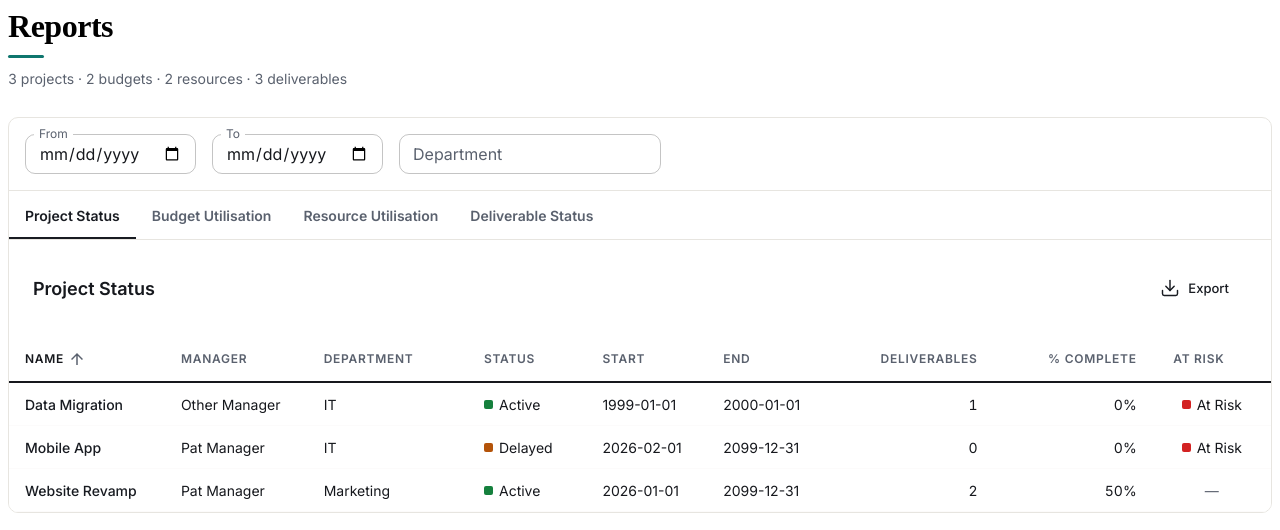
Scenario: Reports page › budget utilisation report › renders utilisation and flags budgets whose spend exceeds the plan
Expected: the link "Website Revamp" is shown, [25, 482, 137, 499]
Click the tab "Budget Utilisation": (212, 215) [136, 191, 287, 239]
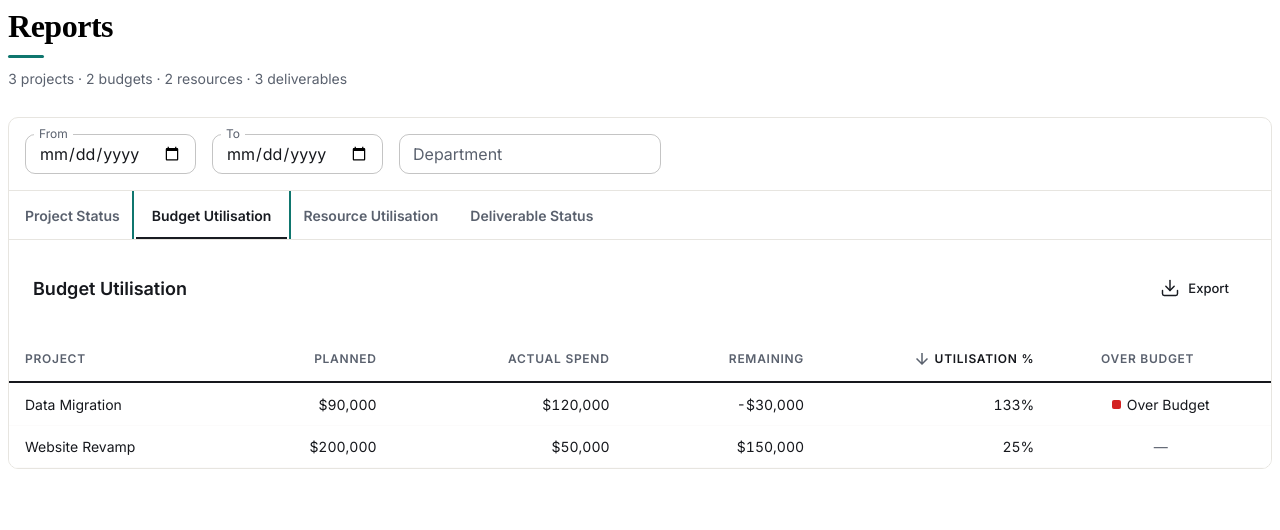
Expected: the heading "Budget Utilisation" is shown, [33, 276, 187, 301]
Expected: the text "133%" is shown, [820, 382, 1050, 426]
Expected: the text "Over Budget" is shown, [1127, 394, 1210, 415]
